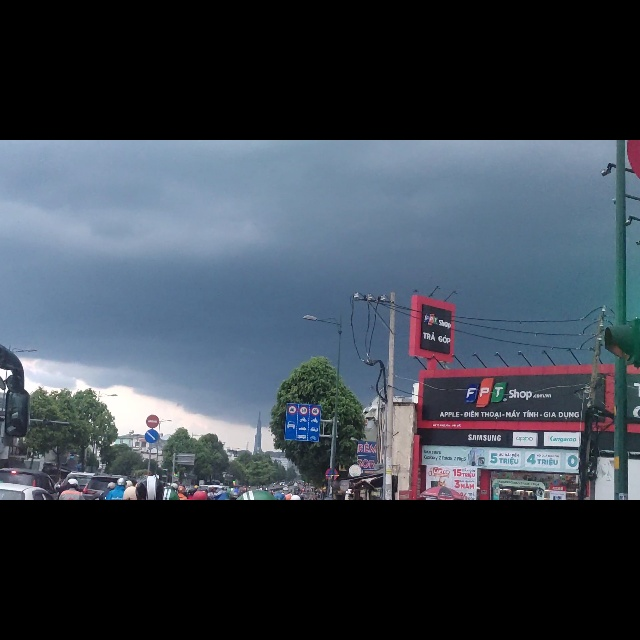bien_cam: (285, 466, 320, 536), (145, 514, 159, 538), (146, 488, 159, 513)
